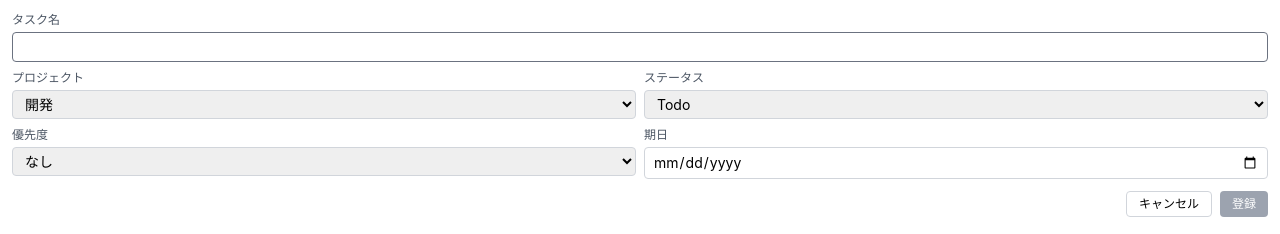
Test: QuickInputDialog › プロジェクト変更で列リストが更新される
Check: the dropdown showing "Todo" is shown, box [644,90,1268,119]
Select "個人" in the dropdown labelled "プロジェクト" at [324, 104], box [12,90,636,119]
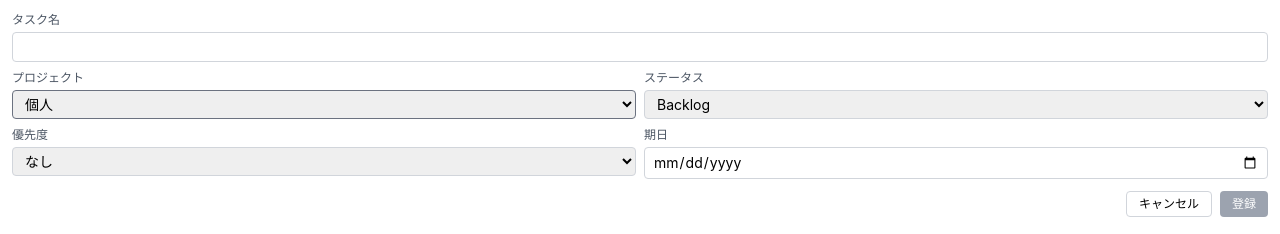
Check: the dropdown labelled "ステータス" shows "Backlog", box [644,90,1268,119]
